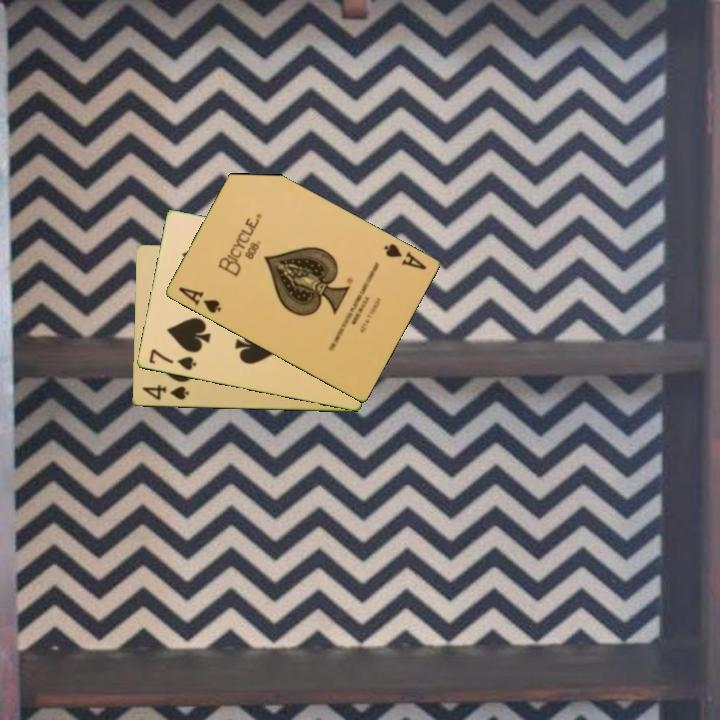4s: (138, 382, 192, 403)
7s: (145, 345, 199, 373)
As: (175, 283, 224, 316), (380, 240, 429, 273)
